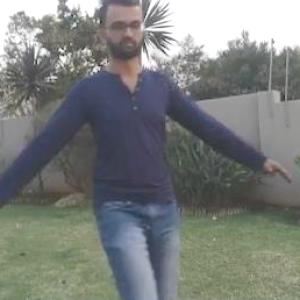land: (49, 58, 216, 263)
